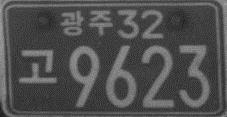2: (141, 43, 176, 110), (142, 9, 165, 41)
3: (177, 44, 210, 110), (119, 8, 140, 39)
6: (103, 42, 138, 110)
9: (69, 45, 101, 108)
고: (19, 48, 57, 86)
광주_O: (59, 8, 113, 37)
